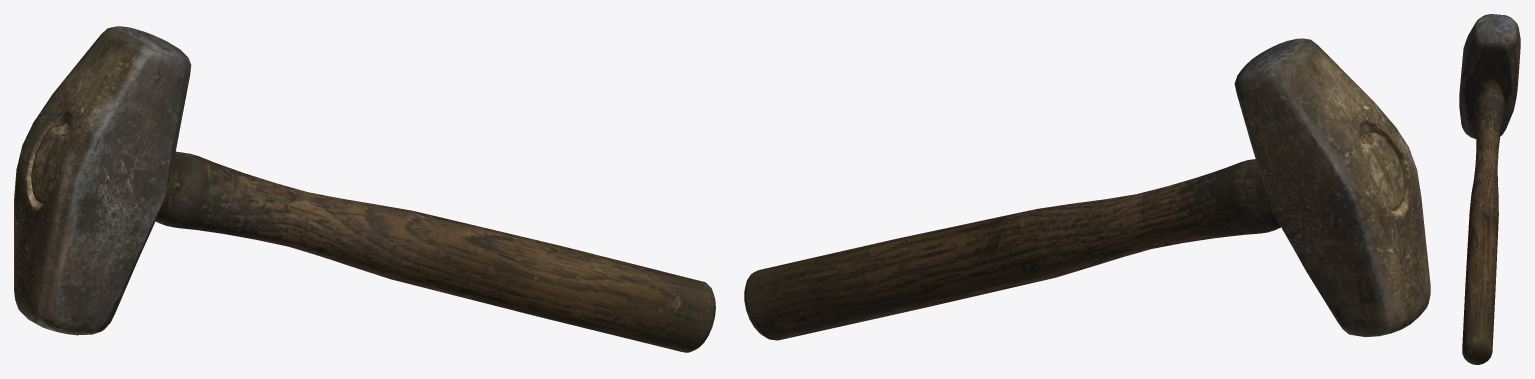
File: s_martillo_clavos.glb
3 views of the same model, side by side, from view 1: azimuth 30°, elevation 25°; view 2: azimuth 150°, elevation 25°; view 3: azimuth 270°, elevation 25° (orthographic). The views are drawn at different scales.
Parts seen in each view (by area): view 1: Hammer_low_TEX_Hammer_0; view 2: Hammer_low_TEX_Hammer_0; view 3: Hammer_low_TEX_Hammer_0.
Part boxes in pixels (left/top/right/bottom): Hammer_low_TEX_Hammer_0: left=14, top=26, right=715, bottom=352; Hammer_low_TEX_Hammer_0: left=744, top=38, right=1430, bottom=340; Hammer_low_TEX_Hammer_0: left=1459, top=14, right=1520, bottom=364.
Size of the model in its own units: 0.33 by 0.2028 by 0.0518.
1 material, 1 textured.
